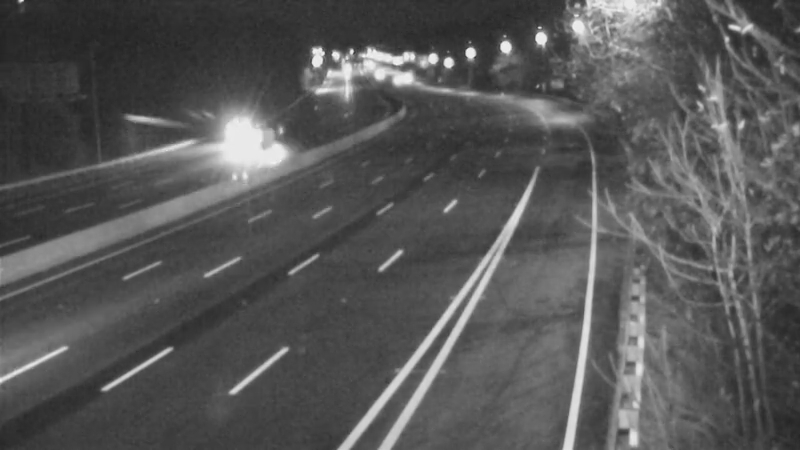vehicle: (370, 53, 420, 103), (217, 123, 267, 173), (209, 109, 259, 159)
